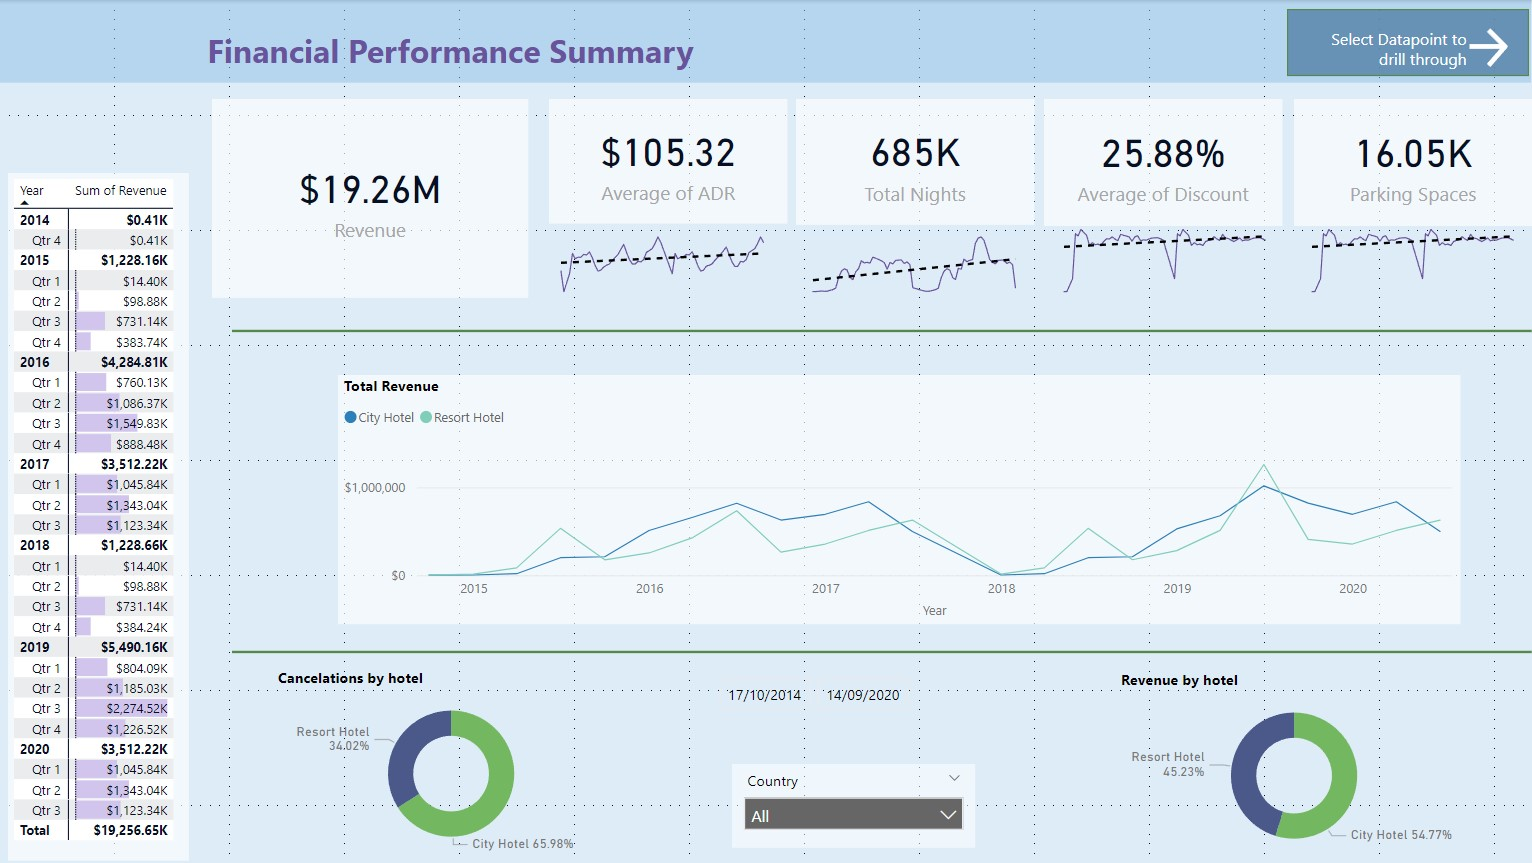

Layout of this report page (visuals, bound fields, positions):
{"tool":"powerbi","page":{"name":"Dashboard","canvas":[1280,720],"ordinal":0},"visuals":[{"type":"textbox","box":[0,0,1278.8,69.2],"z":0},{"type":"shape","box":[194.8,253.4,1085.2,45.4],"z":1000},{"type":"shape","box":[194.8,521.4,1085.2,45.4],"z":2000},{"type":"card","fields":{"Values":["Sum(Query1.Revenue)"]},"box":[177.8,82.3,263.6,166.4],"z":3000},{"type":"card","fields":{"Values":["Avg(Query1.adr)"]},"box":[458.8,82.2,198.8,103.5],"z":4000},{"type":"card","fields":{"Values":["Query1.Total Nights"]},"box":[665.3,82.2,198.8,104.7],"z":5000},{"type":"card","fields":{"Values":["Avg(Query1.Discount)"]},"box":[872.4,82.2,198.8,105.9],"z":6000},{"type":"lineChart","title":"Total Revenue","fields":{"Category":["Query1.reservation_status_date.Variation.Date Hierarchy.Year","Query1.reservation_status_date.Variation.Date Hierarchy.Quarter","Query1.reservation_status_date.Variation.Date Hierarchy.Month","Query1.reservation_status_date.Variation.Date Hierarchy.Day"],"Y":["Sum(Query1.Revenue)"],"Series":["Query1.hotel"]},"box":[282.7,313.4,937.3,208],"z":7000},{"type":"slicer","title":"County","fields":{"Values":["Query1.country"]},"box":[612.3,637.7,203.2,70.1],"z":8000},{"type":"lineChart","fields":{"Category":["Query1.reservation_status_date.Variation.Date Hierarchy.Year","Query1.reservation_status_date.Variation.Date Hierarchy.Month"],"Y":["Avg(Query1.adr)"]},"box":[454,174.3,199.2,74.7],"z":10000},{"type":"lineChart","fields":{"Category":["Query1.reservation_status_date.Variation.Date Hierarchy.Year","Query1.reservation_status_date.Variation.Date Hierarchy.Month"],"Y":["Query1.Total Nights"]},"box":[664.9,174.3,199.2,74.7],"z":11000},{"type":"lineChart","fields":{"Category":["Query1.reservation_status_date.Variation.Date Hierarchy.Year","Query1.reservation_status_date.Variation.Date Hierarchy.Month"],"Y":["Avg(Query1.Discount)"]},"box":[874.3,174.3,197.7,74.7],"z":12000},{"type":"pivotTable","fields":{"Rows":["Query1.reservation_status_date.Variation.Date Hierarchy.Year","Query1.reservation_status_date.Variation.Date Hierarchy.Quarter","Query1.reservation_status_date.Variation.Date Hierarchy.Month","Query1.reservation_status_date.Variation.Date Hierarchy.Day"],"Values":["Sum(Query1.Revenue)"]},"box":[7.9,144.5,150.7,573.7],"z":13000},{"type":"card","fields":{"Values":["Sum(Query1.required_car_parking_spaces)"]},"box":[1081.2,82.2,198.8,105.9],"z":14000},{"type":"lineChart","fields":{"Category":["Query1.reservation_status_date.Variation.Date Hierarchy.Year","Query1.reservation_status_date.Variation.Date Hierarchy.Month"],"Y":["Avg(Query1.Discount)"]},"box":[1080.8,174.3,197.7,74.7],"z":15000},{"type":"donutChart","title":"Revenue by hotel","fields":{"Y":["Sum(Query1.Revenue)"],"Category":["Query1.hotel"]},"box":[931.9,558.5,298.7,162],"z":16000},{"type":"slicer","fields":{"Values":["Query1.reservation_status_date"]},"box":[588.6,556.2,249.6,70.1],"z":17000},{"type":"donutChart","title":"Cancelations by hotel","fields":{"Y":["Sum(Query1.is_canceled)"],"Category":["Query1.hotel"]},"box":[228.2,556.4,298.7,162],"z":18000},{"type":"group","id":"g1","title":"Group 2","box":[1075.5,7.9,202.3,56.1],"z":19000,"group":"g2"},{"type":"shape","box":[1075.5,7.9,202.3,56.1],"z":19500,"group":"g1"},{"type":"actionButton","box":[1104.9,8.9,158.5,51.7],"z":20000,"group":"g2"},{"type":"group","id":"g2","title":"Group 1","box":[1075.5,7.9,202.3,56.1],"z":20001}]}

Visuals, with their boxes in screenshot pixels (x1, y1, x2, y2), scaled from the page's 1280x720 canvas onto the 1532x863 screenshot:
textbox: bbox(0, 0, 1531, 83)
shape: bbox(233, 304, 1531, 358)
shape: bbox(233, 625, 1531, 679)
card - Sum(Query1.Revenue): bbox(213, 99, 528, 298)
card - Avg(Query1.adr): bbox(549, 99, 787, 223)
card - Query1.Total Nights: bbox(796, 99, 1034, 224)
card - Avg(Query1.Discount): bbox(1044, 99, 1282, 225)
"Total Revenue" lineChart: bbox(338, 376, 1460, 625)
"County" slicer: bbox(733, 764, 976, 848)
lineChart - Query1.reservation_status_date.Variation.Date Hierarchy.Year x Query1.reservation_status_date.Variation.Date Hierarchy.Month: bbox(543, 209, 782, 298)
lineChart - Query1.reservation_status_date.Variation.Date Hierarchy.Year x Query1.reservation_status_date.Variation.Date Hierarchy.Month: bbox(796, 209, 1034, 298)
lineChart - Query1.reservation_status_date.Variation.Date Hierarchy.Year x Query1.reservation_status_date.Variation.Date Hierarchy.Month: bbox(1046, 209, 1283, 298)
pivotTable - Query1.reservation_status_date.Variation.Date Hierarchy.Year x Query1.reservation_status_date.Variation.Date Hierarchy.Quarter: bbox(9, 173, 190, 861)
card - Sum(Query1.required_car_parking_spaces): bbox(1294, 99, 1531, 225)
lineChart - Query1.reservation_status_date.Variation.Date Hierarchy.Year x Query1.reservation_status_date.Variation.Date Hierarchy.Month: bbox(1294, 209, 1530, 298)
"Revenue by hotel" donutChart: bbox(1115, 669, 1473, 862)
slicer - Query1.reservation_status_date: bbox(704, 667, 1003, 751)
"Cancelations by hotel" donutChart: bbox(273, 667, 631, 861)
"Group 2" group: bbox(1287, 9, 1529, 77)
shape: bbox(1287, 9, 1529, 77)
actionButton: bbox(1322, 11, 1512, 73)
"Group 1" group: bbox(1287, 9, 1529, 77)
